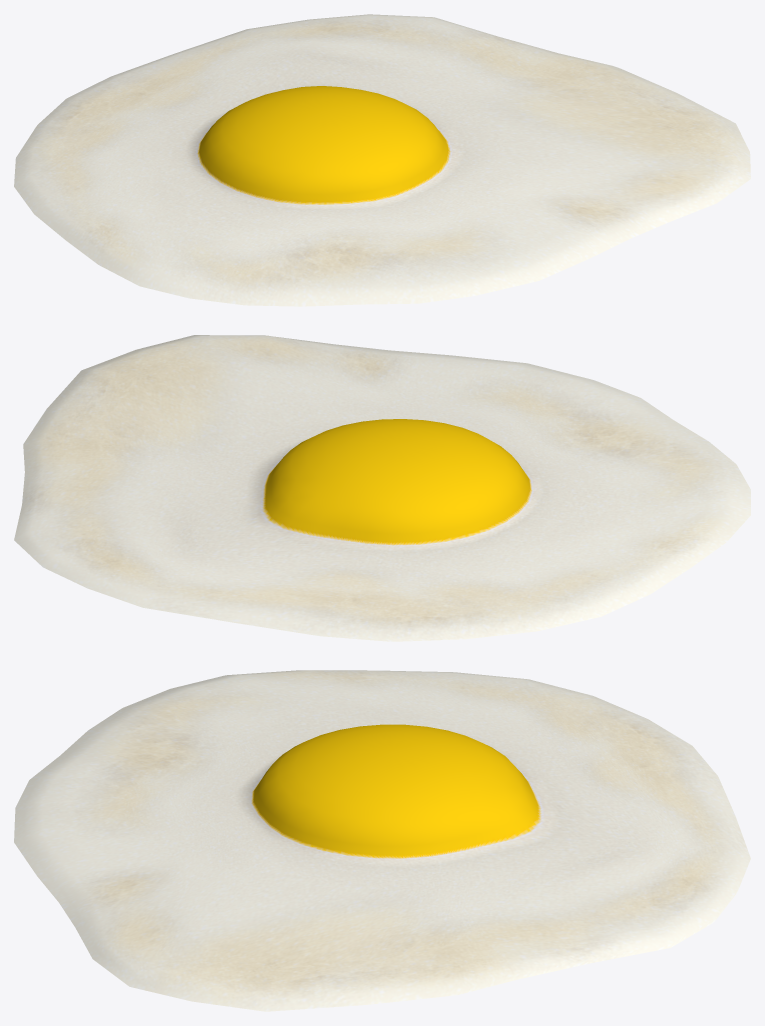
File: Egg_Cracked_3.obj
The picture shows the model from 3 angles, top to bottom: view 1: azimuth 30°, elevation 25°; view 2: azimuth 150°, elevation 25°; view 3: azimuth 270°, elevation 25°; orthographic projection. The views are drawn at different scales.
Parts seen in each view (by area): view 1: fried_egg_3; view 2: fried_egg_3; view 3: fried_egg_3.
Boxes of the visible parts, left/top/right/bottom form: fried_egg_3: left=14, top=14, right=750, bottom=306; fried_egg_3: left=14, top=335, right=750, bottom=641; fried_egg_3: left=14, top=670, right=750, bottom=1011.
Size of the model in its own units: 0.1201 by 0.0107 by 0.1095.
